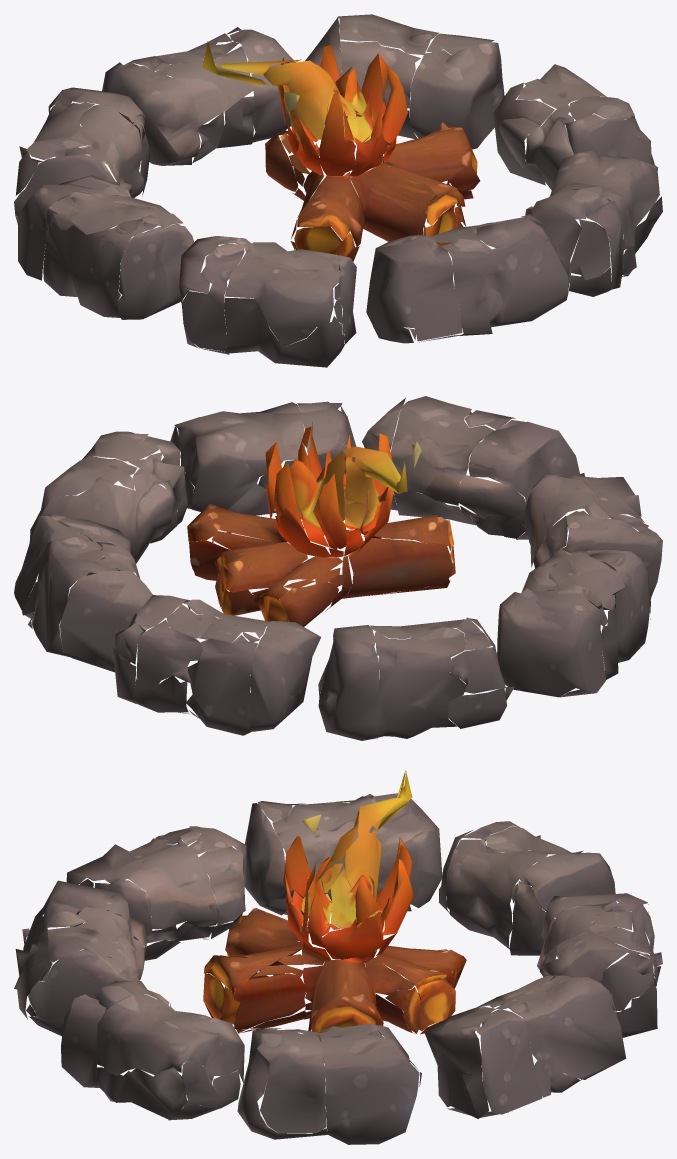
Rendered from fogueira.glb.
The picture shows the model from 3 angles, top to bottom: view 1: azimuth 30°, elevation 25°; view 2: azimuth 150°, elevation 25°; view 3: azimuth 270°, elevation 25°; orthographic projection.
Parts seen in each view (by area): view 1: tripo_node_3ec5bc0a-b2bd-4b19-9d30-03d9b52a83bf; view 2: tripo_node_3ec5bc0a-b2bd-4b19-9d30-03d9b52a83bf; view 3: tripo_node_3ec5bc0a-b2bd-4b19-9d30-03d9b52a83bf.
Part boxes in pixels (x1,y1,x2,y2): tripo_node_3ec5bc0a-b2bd-4b19-9d30-03d9b52a83bf: (14,14,662,367); tripo_node_3ec5bc0a-b2bd-4b19-9d30-03d9b52a83bf: (14,396,662,740); tripo_node_3ec5bc0a-b2bd-4b19-9d30-03d9b52a83bf: (14,770,662,1144).
Size of the model in its own units: 0.9975 by 0.3369 by 0.9916.
1 material, 1 textured.
